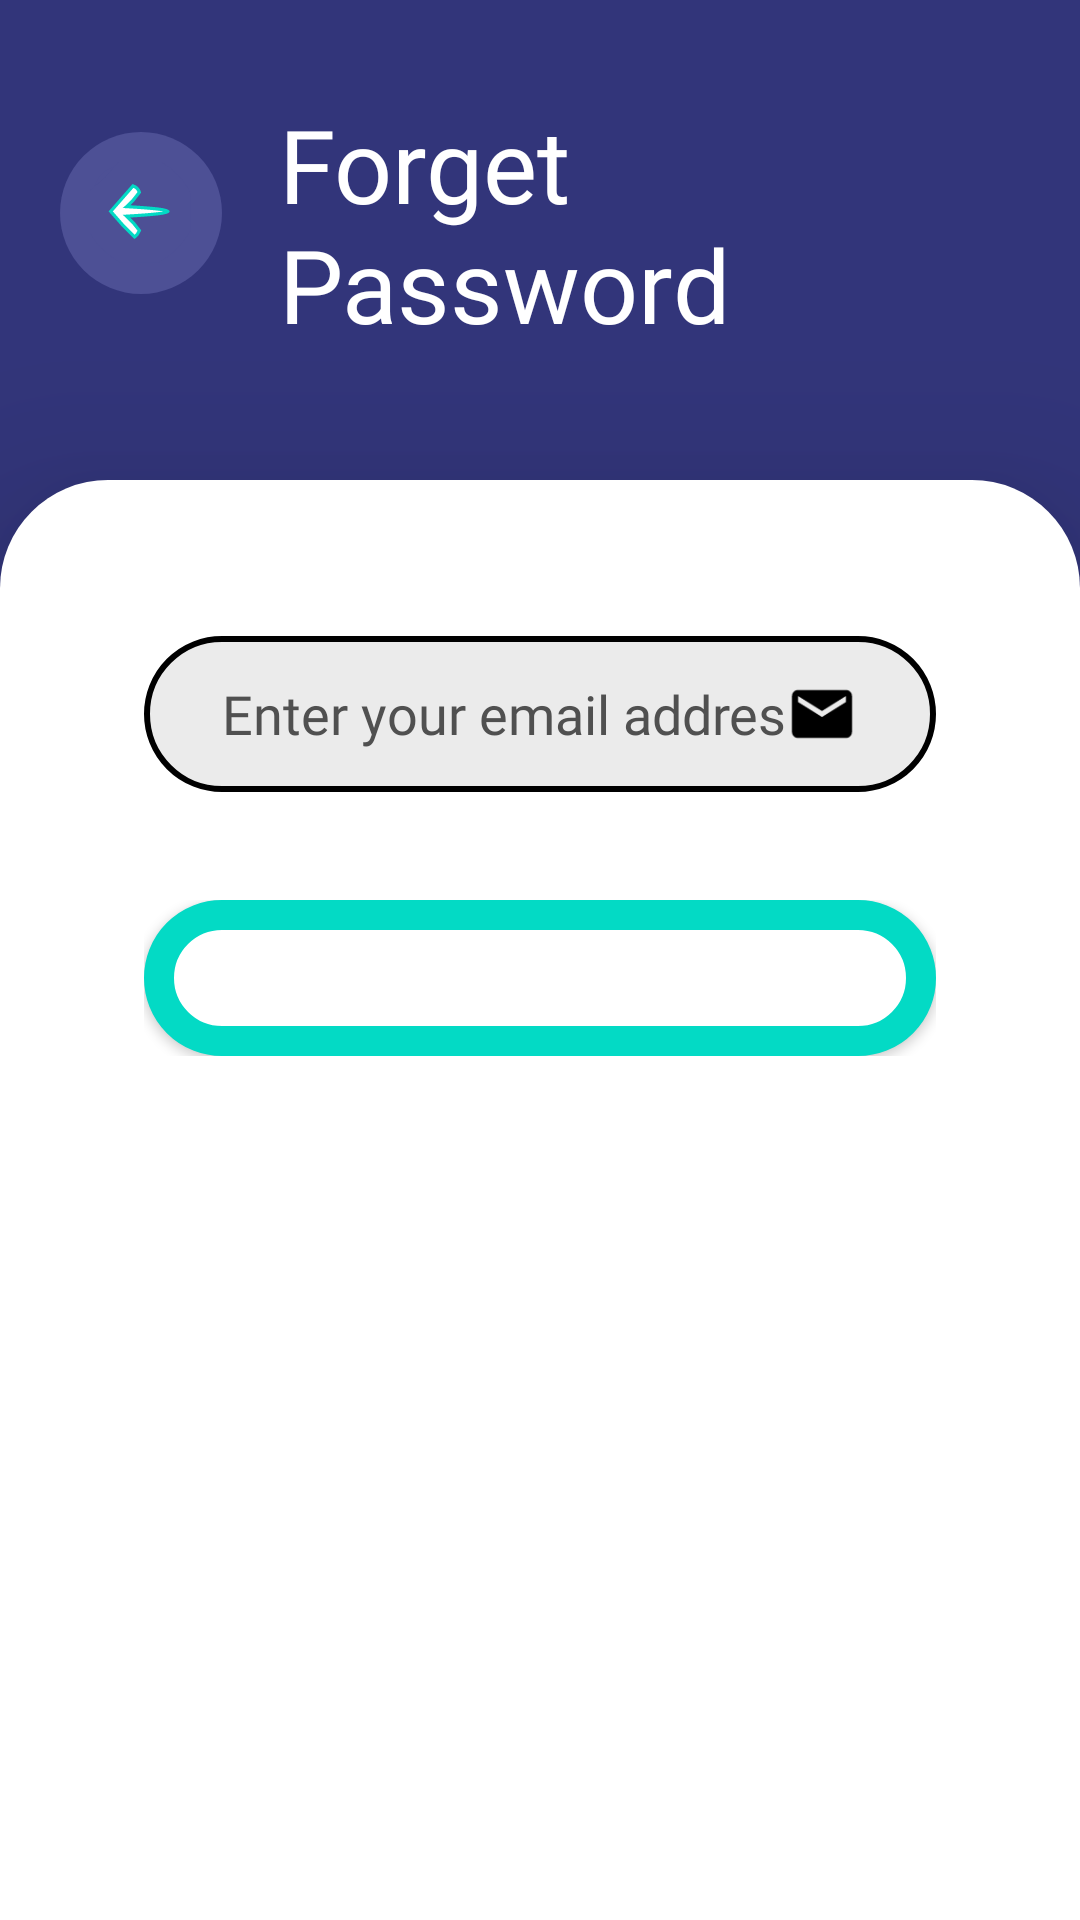

Named icons in this screenshot (1080x1920) and their centers, (x,y):
back: (141,213)
